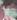with_mask: (1, 2, 17, 20)
